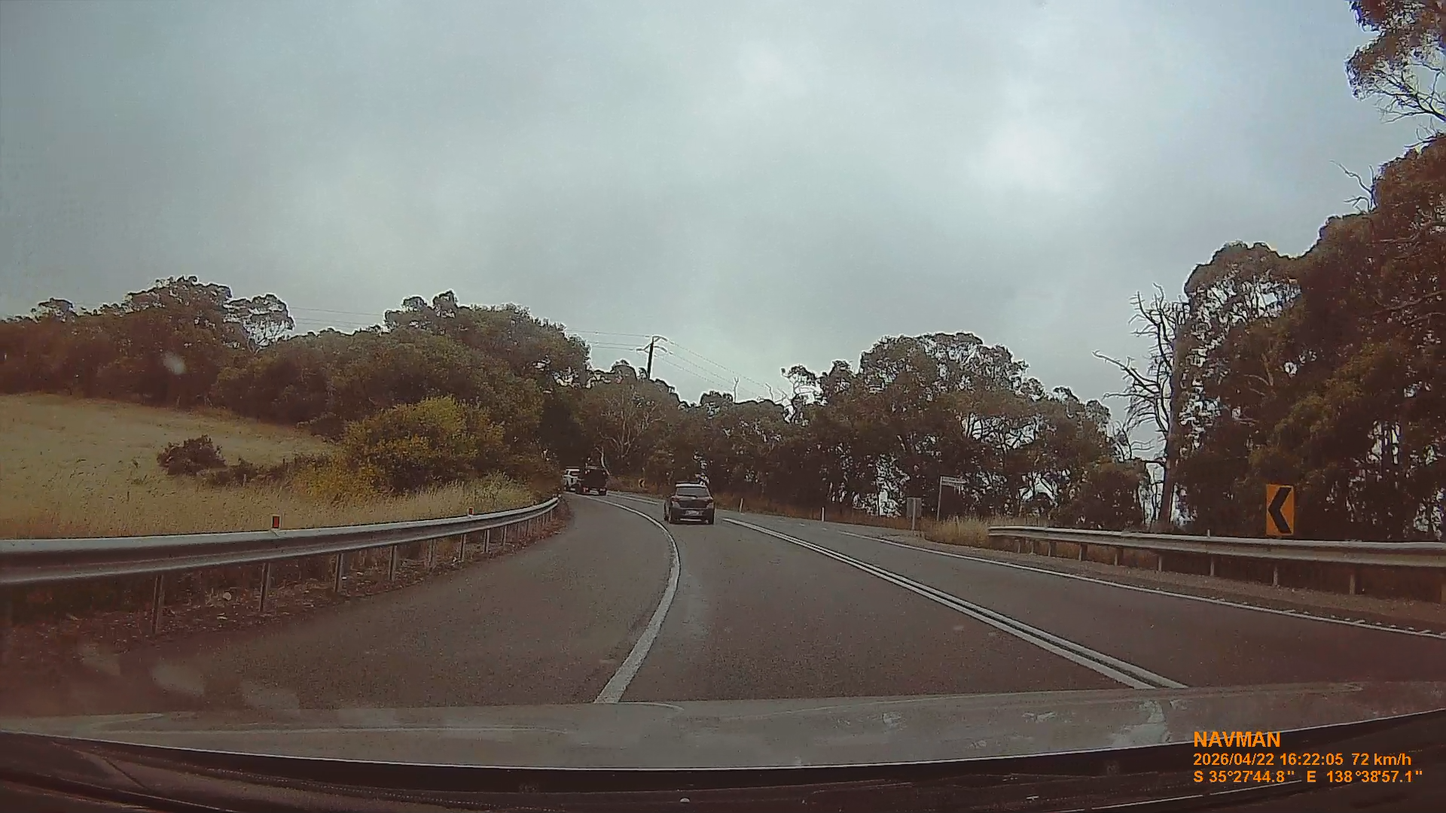fences: (987, 525, 1066, 557)
road barriers: (0, 498, 562, 589), (986, 525, 1445, 625)
